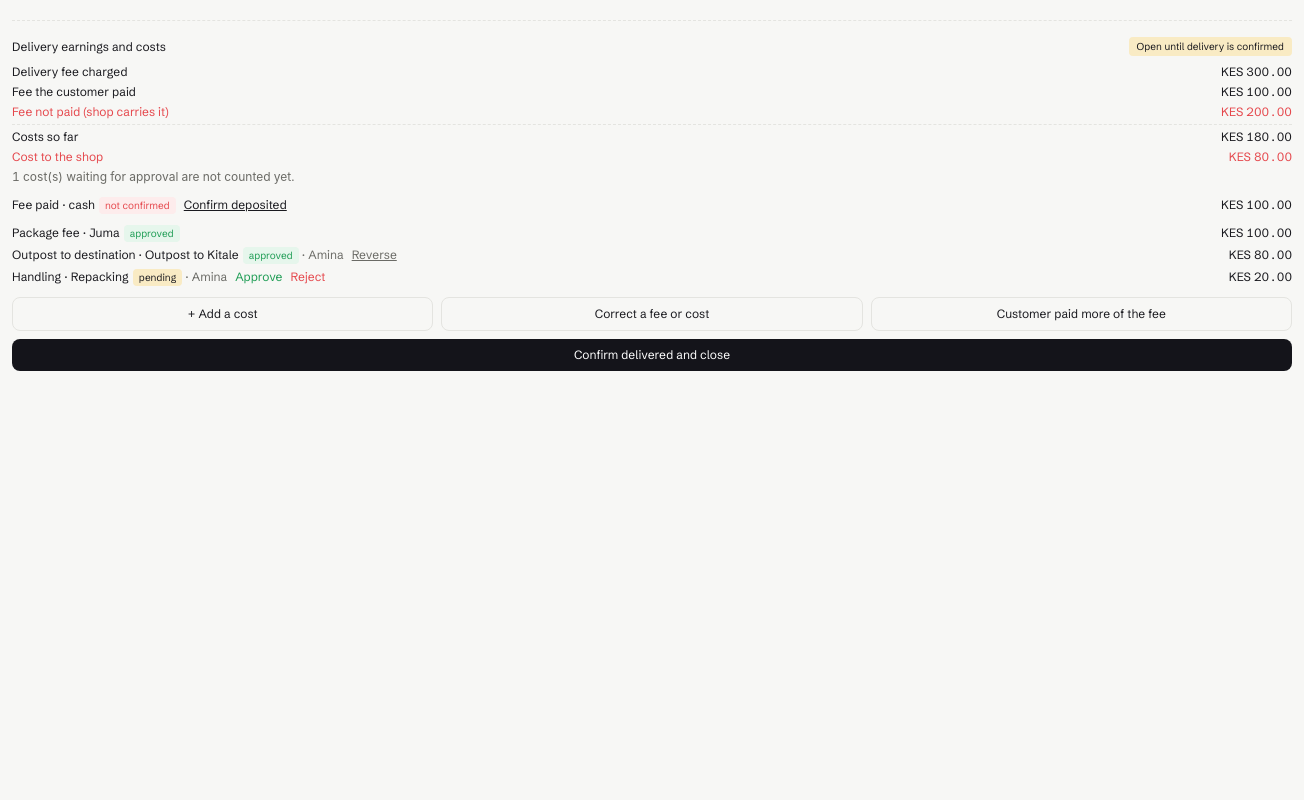
Scenario: DeliverySettlementPanel › will not enter a cost without a reason
Click the button "+ Add a cost" at [223, 314], box [12, 297, 433, 331]
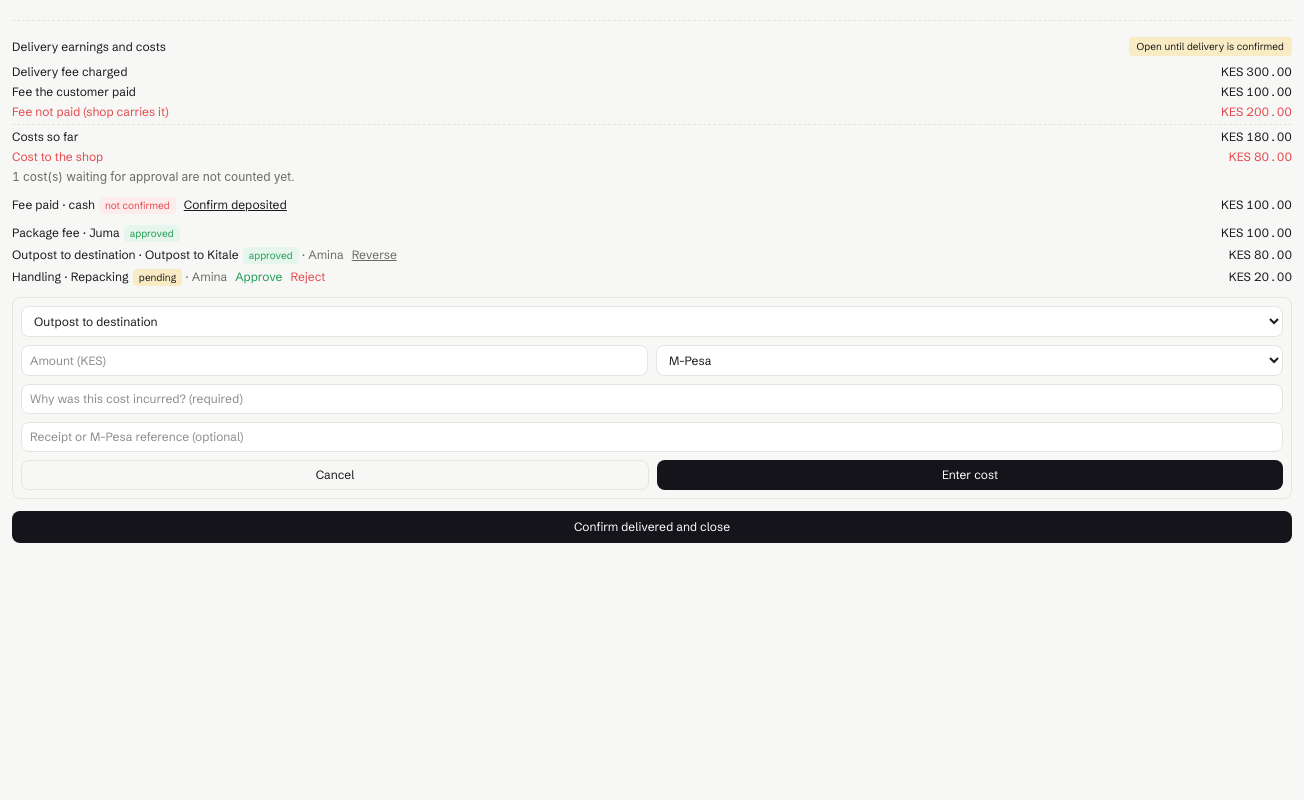
Type "120" into the number field named "Cost amount" at [334, 360], box [21, 345, 648, 376]
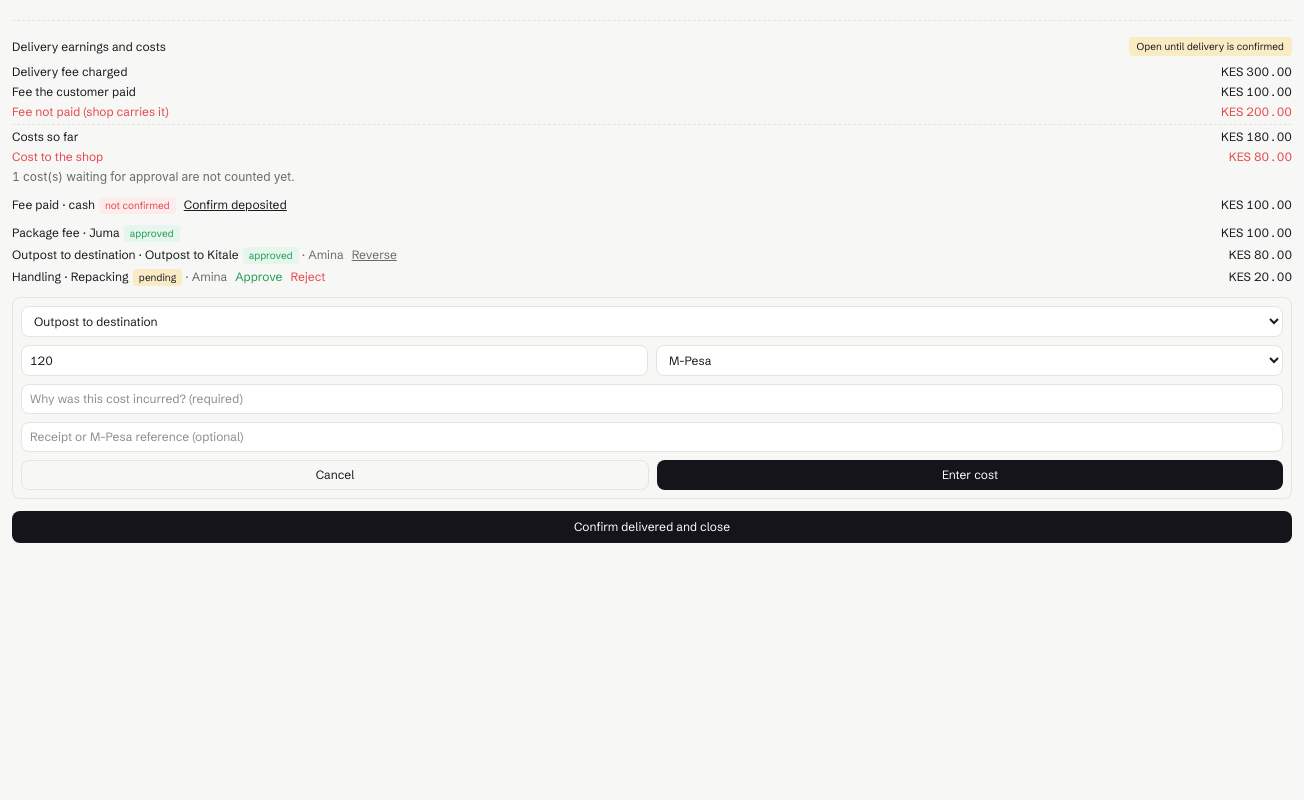
Click the button "Enter cost" at [970, 475], box [657, 460, 1283, 490]
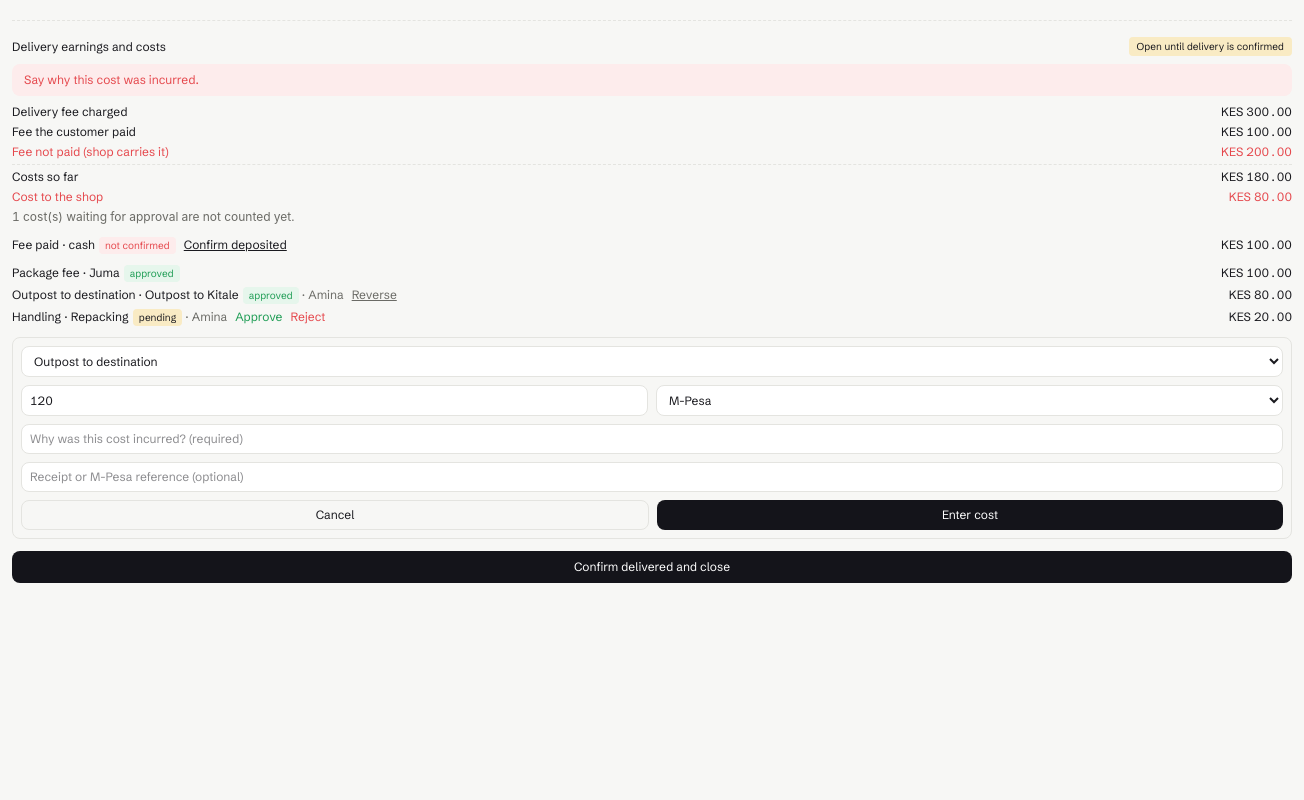
Now the message shows "Say why this cost was incurred", box [24, 72, 199, 87]
